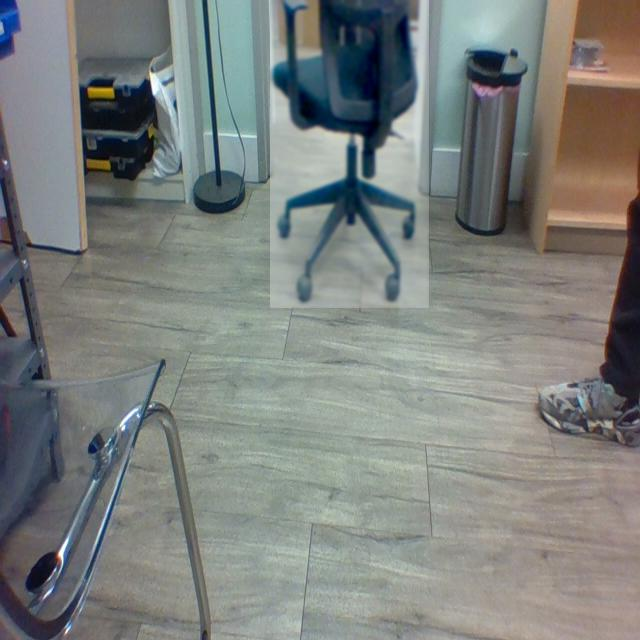black-chair: (270, 0, 430, 309)
